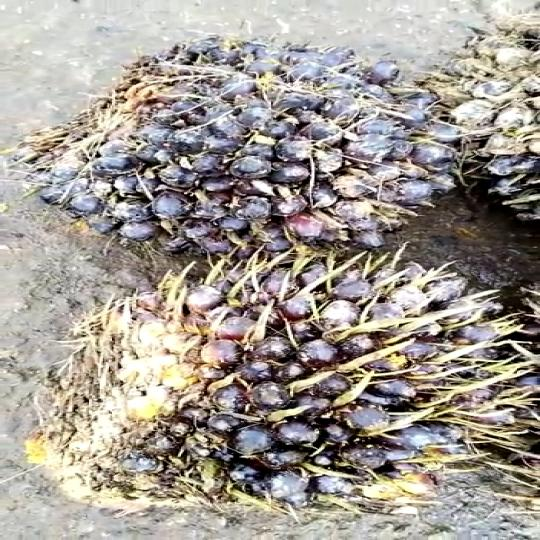mentah: (38, 264, 514, 511), (38, 26, 467, 258)
